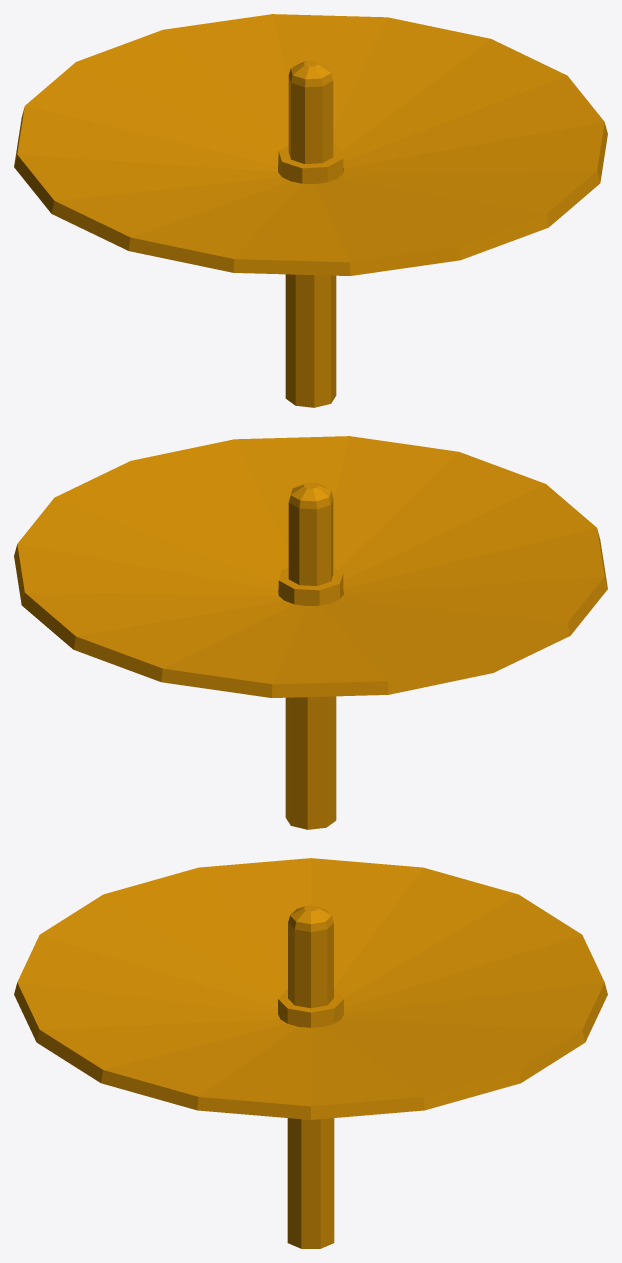
The model's file is fire_support.fbx.
The picture shows the model from 3 angles, top to bottom: view 1: azimuth 30°, elevation 25°; view 2: azimuth 150°, elevation 25°; view 3: azimuth 270°, elevation 25°; orthographic projection.
Visible parts, largest first — view 1: fire_support; view 2: fire_support; view 3: fire_support.
Boxes of the visible parts, x1,y1,x2,y2 form: fire_support: (14,14,607,407); fire_support: (14,436,607,829); fire_support: (14,858,607,1248).
Bounding box in the file's own units: 30.1 × 30.1 × 18.49.
